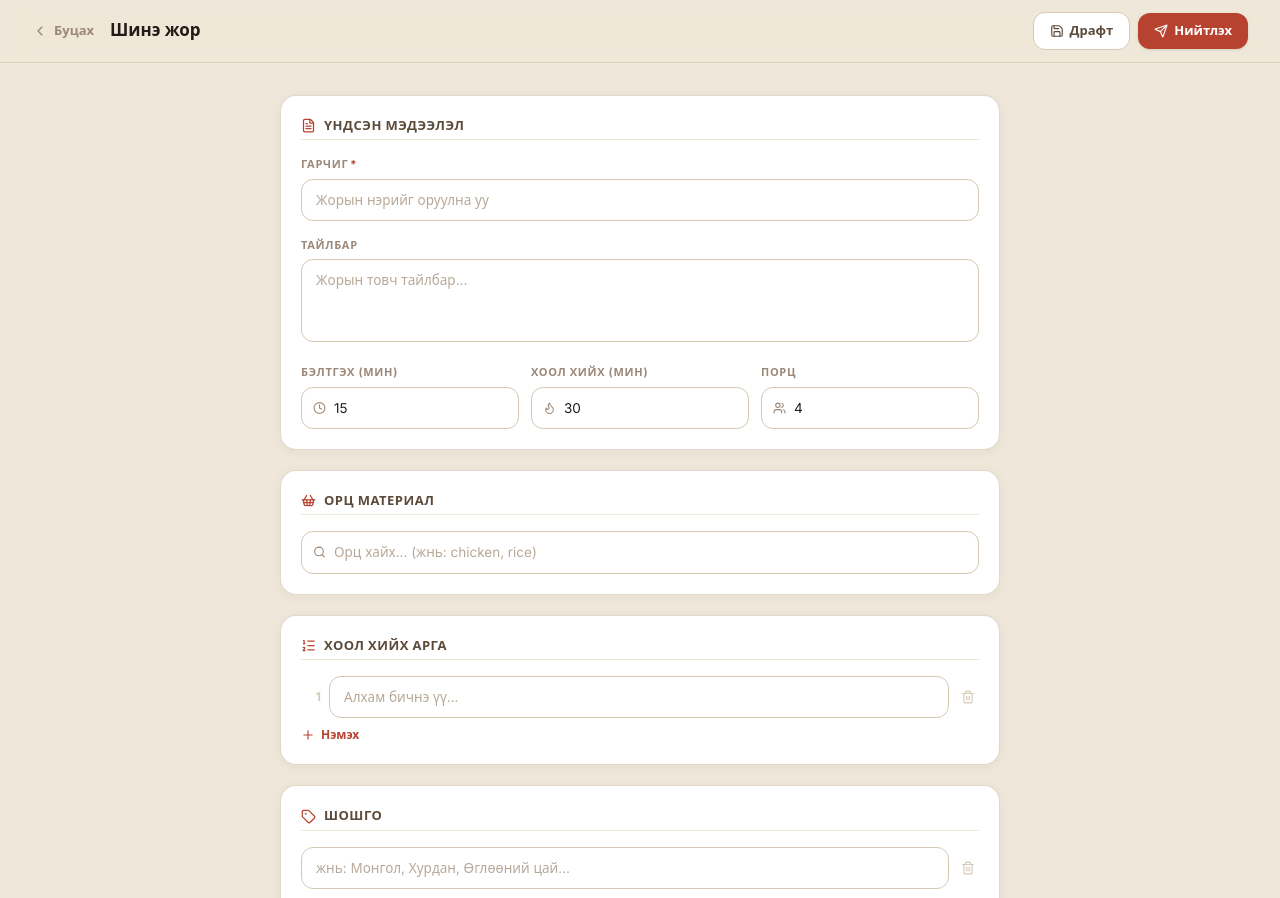
Scenario: NewRecipePage — create recipe › shows error when title is missing on publish
Click the button "Нийтлэх": (1193, 31) [1138,13,1248,48]
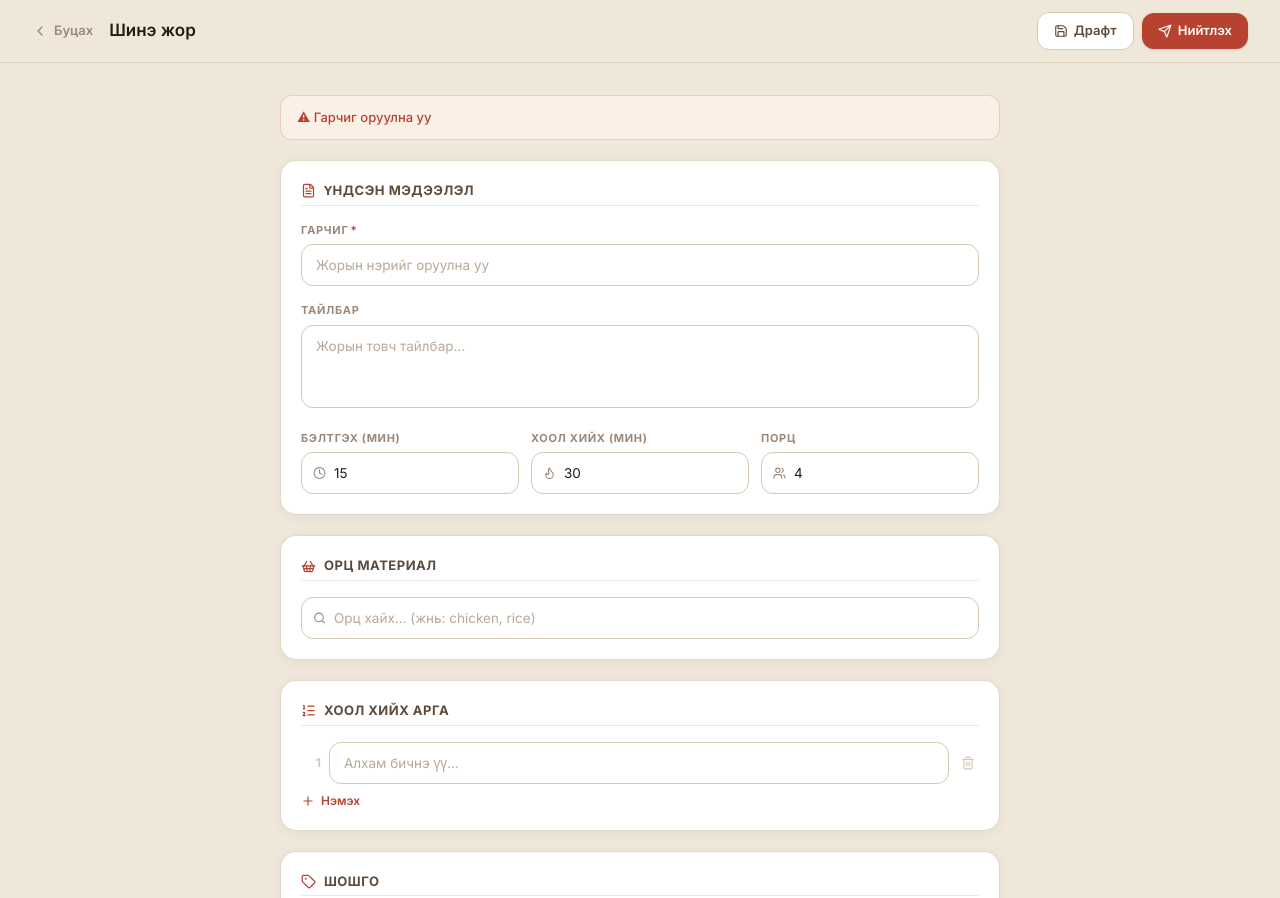
Check: the text "⚠ Гарчиг оруулна уу" is shown, box [280,94,1000,140]
